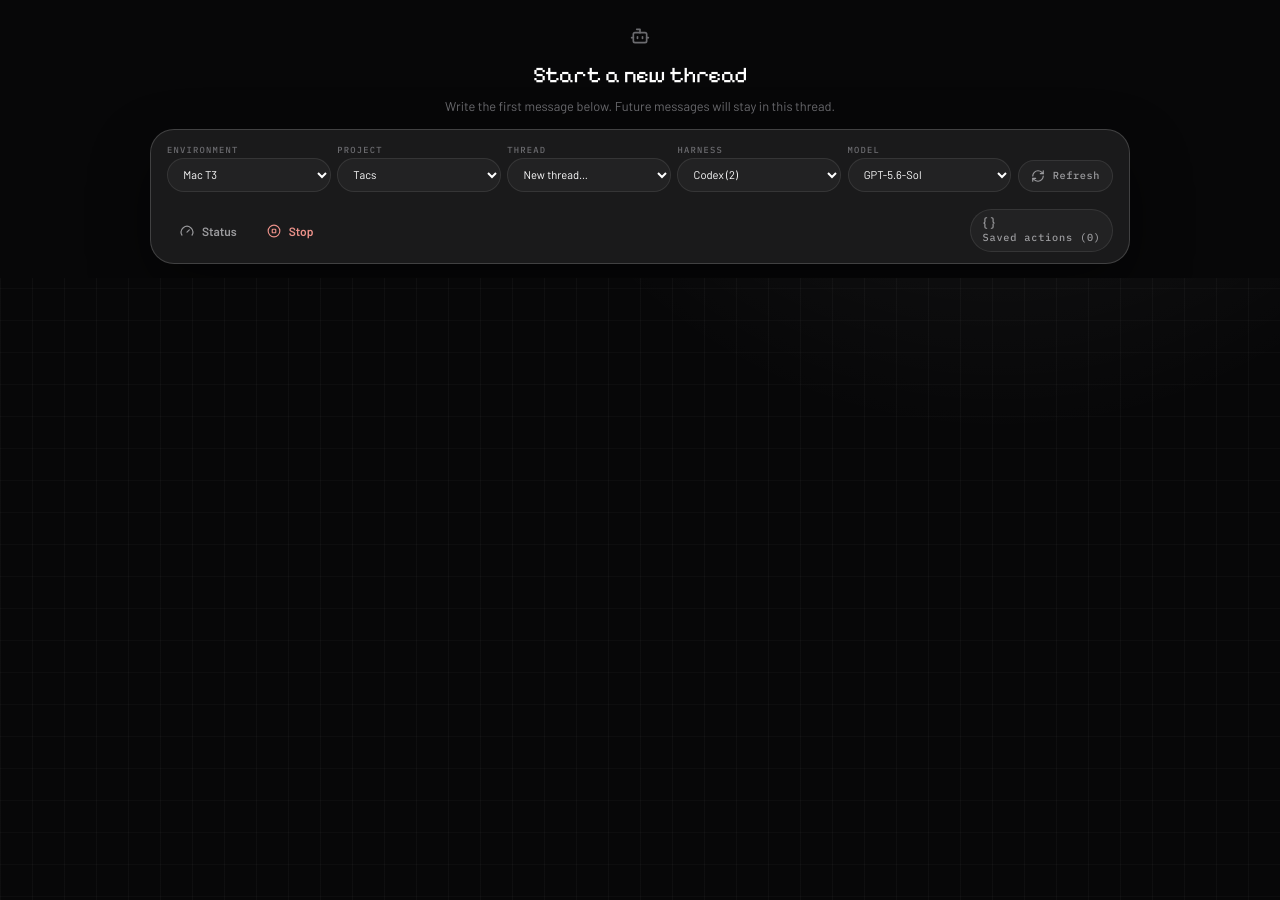
Test: renders a Claude-style effort control from its own ids, not a hardcoded provider name
This screenshot has width=1280, height=900.
Select "Claude (1)" in the dropdown named "Agent harness" at coordinates (759, 175), box top-left (677, 158), bottom-right (841, 192)
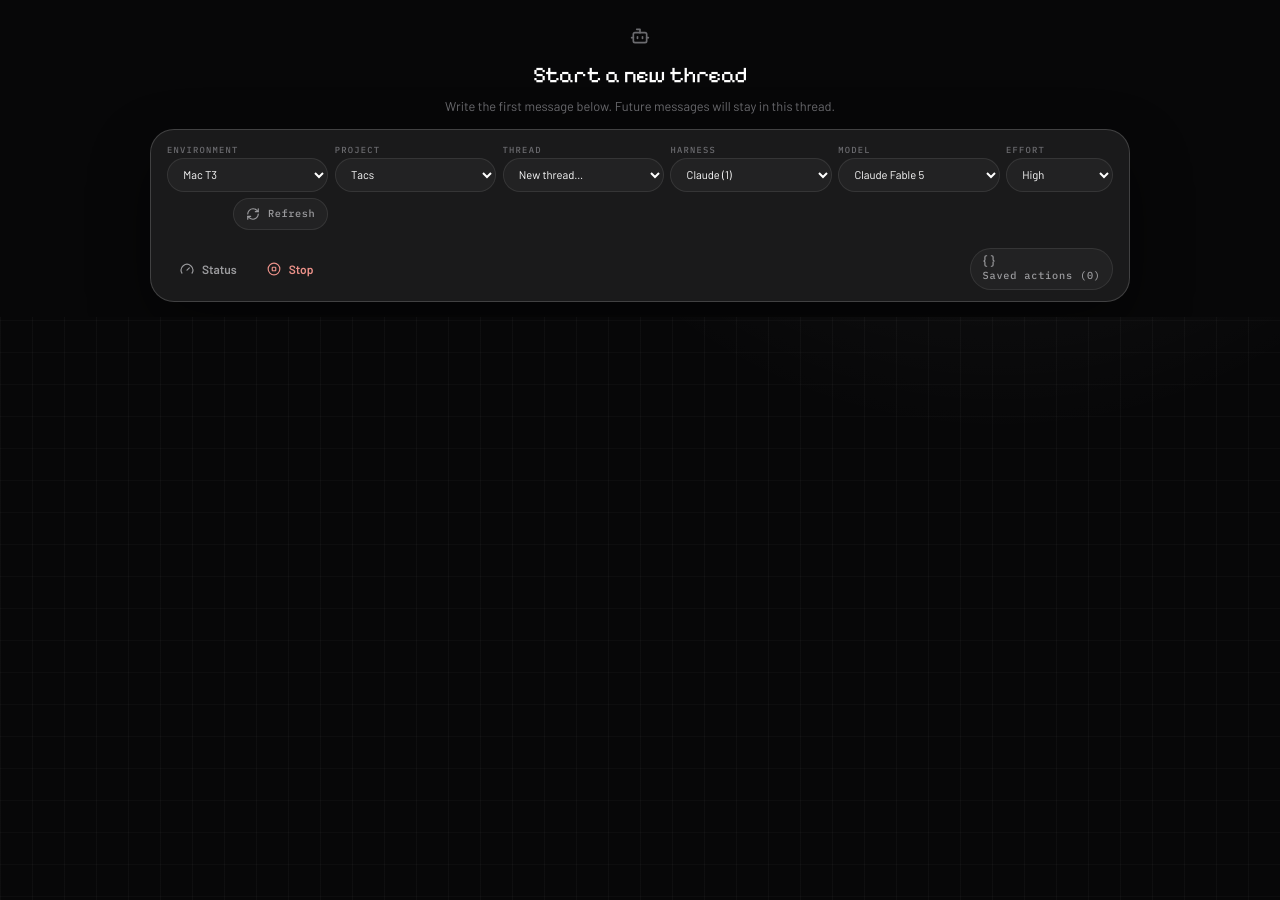
Result: the dropdown labelled "Effort" shows "High" at top-left (1006, 158), bottom-right (1113, 192)
